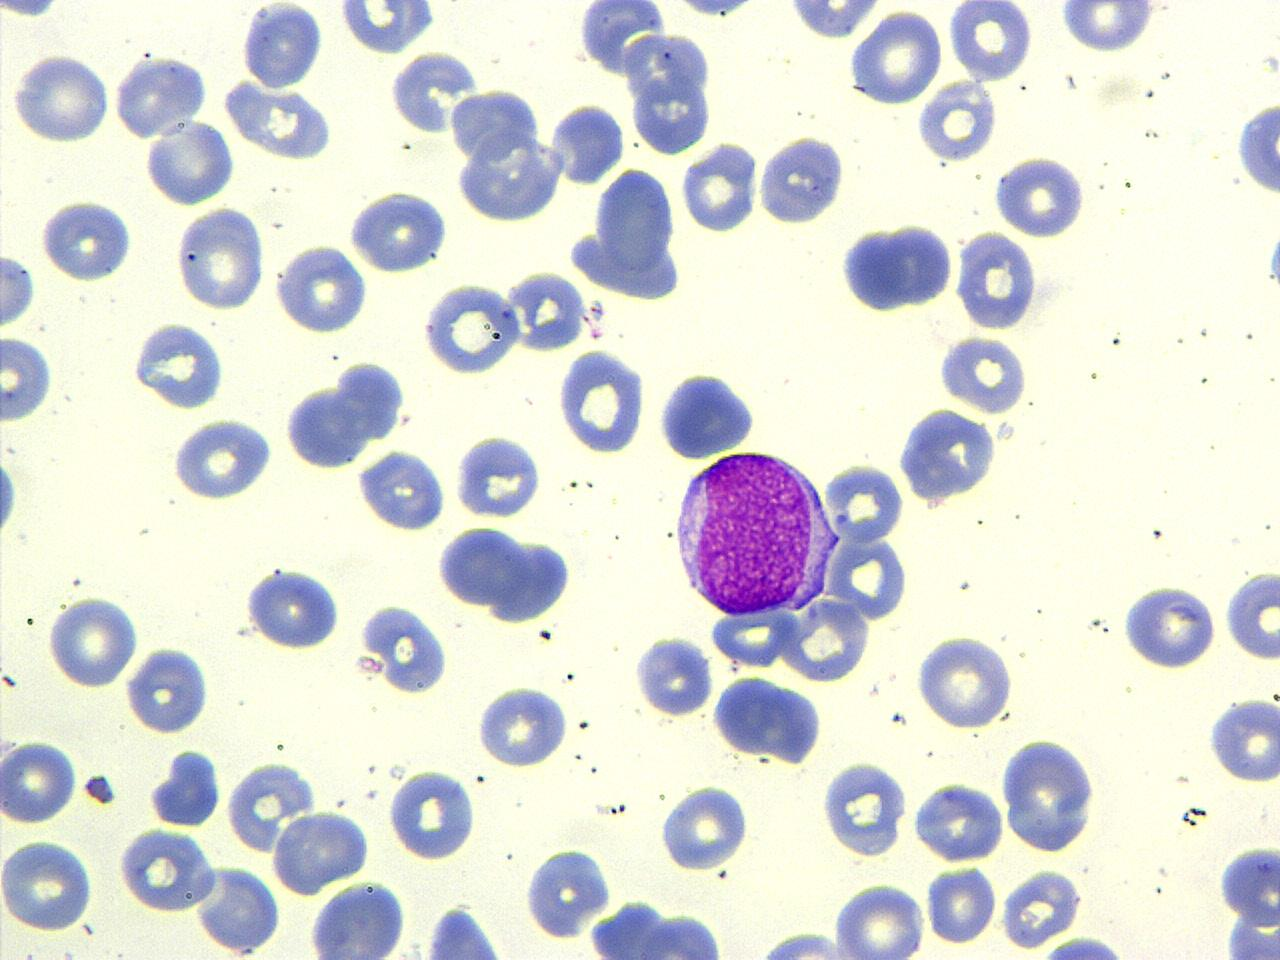Platelets: (0, 455, 19, 541), (0, 0, 62, 22), (1265, 235, 1280, 286)
RBC: (174, 203, 268, 312), (848, 6, 946, 107), (914, 632, 1016, 730), (9, 50, 112, 147), (420, 282, 522, 377), (270, 806, 374, 897), (221, 80, 336, 161), (169, 415, 276, 503), (0, 835, 96, 933), (272, 241, 371, 336), (818, 758, 910, 860), (222, 758, 317, 855), (354, 602, 451, 696), (116, 826, 217, 916), (776, 594, 872, 688), (386, 766, 479, 863), (46, 592, 138, 690), (824, 522, 912, 624), (242, 566, 344, 652), (142, 116, 237, 209), (656, 781, 752, 872), (1120, 581, 1218, 671), (37, 196, 136, 284), (990, 153, 1089, 240), (194, 862, 282, 956), (911, 778, 1007, 864), (125, 643, 212, 736), (936, 332, 1030, 416), (1215, 840, 1280, 960), (504, 267, 590, 355), (998, 864, 1083, 952), (821, 458, 908, 544), (833, 880, 924, 960), (631, 632, 716, 718), (680, 139, 756, 235), (0, 736, 79, 828), (946, 1, 1036, 81), (1204, 692, 1280, 786), (917, 78, 999, 164), (546, 99, 626, 187), (925, 862, 998, 947), (706, 602, 796, 670), (337, 1, 438, 57), (1222, 564, 1278, 664), (1056, 0, 1156, 54), (1, 331, 56, 425), (0, 247, 38, 328)
WBC: (668, 444, 834, 620), (566, 164, 690, 304), (432, 520, 577, 626), (279, 358, 411, 472), (452, 114, 573, 230), (620, 25, 720, 158), (997, 732, 1103, 856), (838, 218, 956, 318), (894, 404, 1002, 510), (712, 670, 826, 766), (556, 345, 650, 456), (656, 366, 762, 461), (420, 280, 522, 378), (848, 7, 946, 107), (272, 239, 371, 338), (952, 226, 1042, 333), (344, 187, 451, 276), (128, 318, 229, 412), (388, 764, 482, 864), (270, 807, 371, 899), (583, 899, 736, 960), (36, 195, 137, 286), (355, 602, 451, 698), (1119, 578, 1217, 672), (175, 416, 277, 506), (756, 130, 848, 228), (522, 844, 614, 942), (386, 48, 486, 138), (475, 680, 572, 770), (306, 876, 412, 960), (118, 828, 219, 916), (242, 566, 344, 652), (229, 79, 333, 163), (990, 153, 1089, 242), (226, 758, 318, 852), (452, 430, 544, 520), (353, 446, 447, 534), (910, 777, 1007, 864), (142, 120, 238, 207), (112, 53, 209, 138), (238, 0, 328, 91), (196, 860, 282, 954), (937, 332, 1029, 416), (574, 1, 672, 79), (998, 866, 1086, 950), (506, 266, 588, 356), (1218, 837, 1280, 953), (632, 632, 714, 720), (1206, 691, 1280, 786), (548, 99, 626, 188), (148, 744, 223, 832), (334, 0, 440, 56), (1222, 564, 1280, 664), (1055, 1, 1163, 54), (1, 329, 57, 427), (728, 926, 889, 959), (418, 904, 512, 960), (774, 0, 900, 41), (1235, 96, 1280, 203), (1018, 929, 1153, 960)
